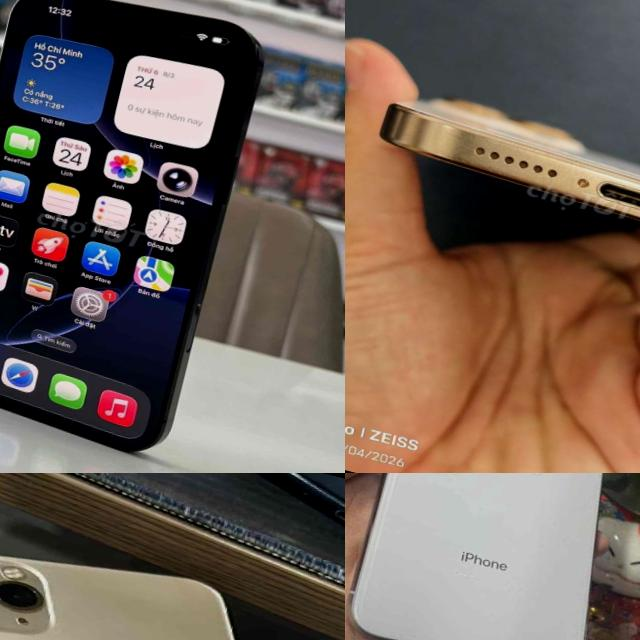gen_11: (0, 505, 345, 640)
gen_16: (0, 0, 261, 450), (379, 98, 640, 221)
gen_x_xs: (345, 473, 640, 640)
